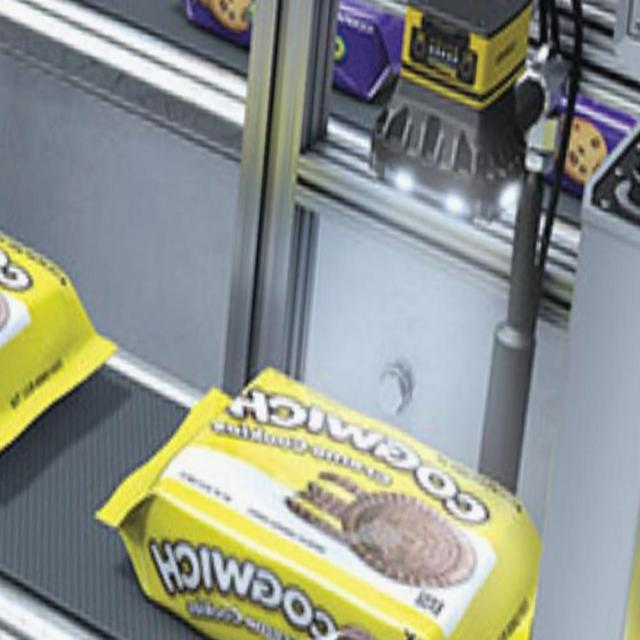food: (94, 362, 543, 639), (0, 222, 118, 457)
